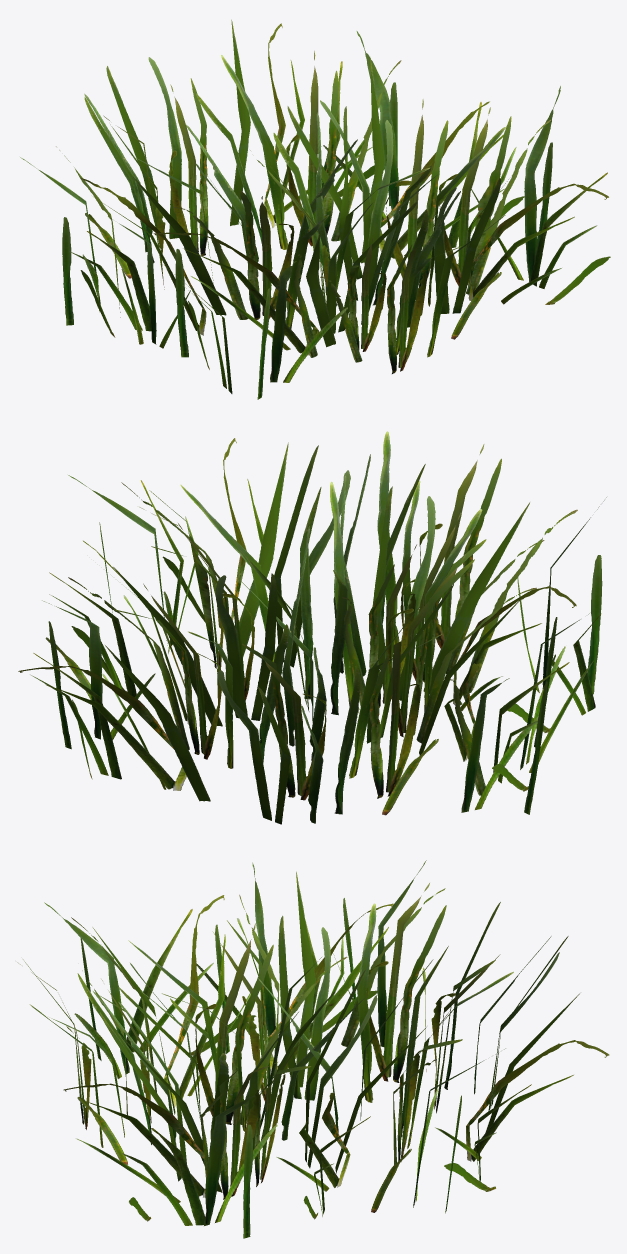
Rendered from TER_Grass5.FBX.
The picture shows the model from 3 angles, top to bottom: view 1: azimuth 30°, elevation 25°; view 2: azimuth 150°, elevation 25°; view 3: azimuth 270°, elevation 25°; orthographic projection. The views are drawn at different scales.
Visible parts, largest first — view 1: grass5; view 2: grass5; view 3: grass5.
Boxes of the visible parts, <box> form: grass5: <box>20,19,610,399</box>; grass5: <box>18,431,606,824</box>; grass5: <box>17,860,609,1238</box>.
Bounding box in the file's own units: 1.97 × 2.05 × 0.6938.
